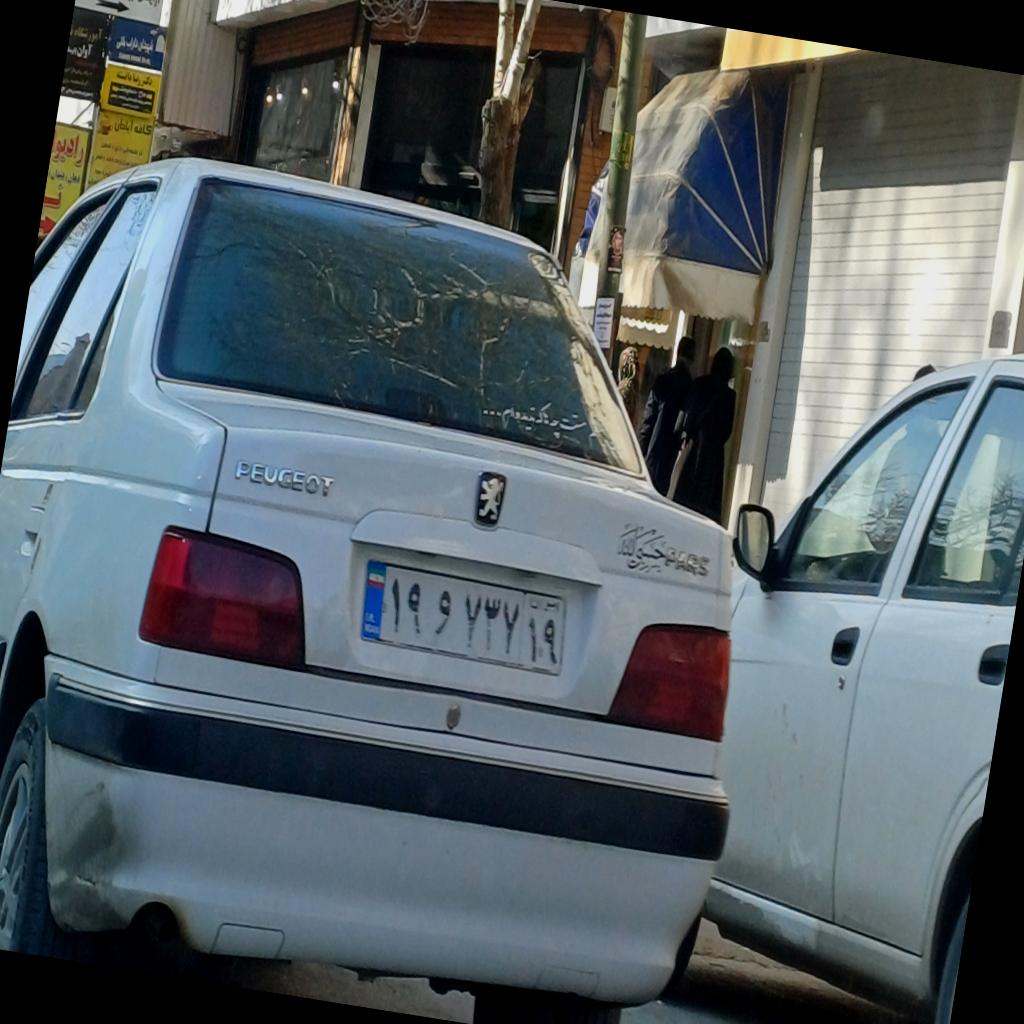Plates: (354, 555, 574, 675)
